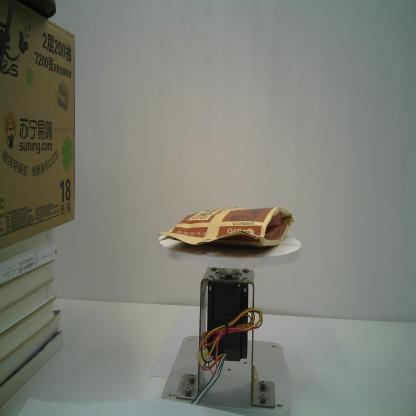Dried Food: (155, 204, 295, 250)
